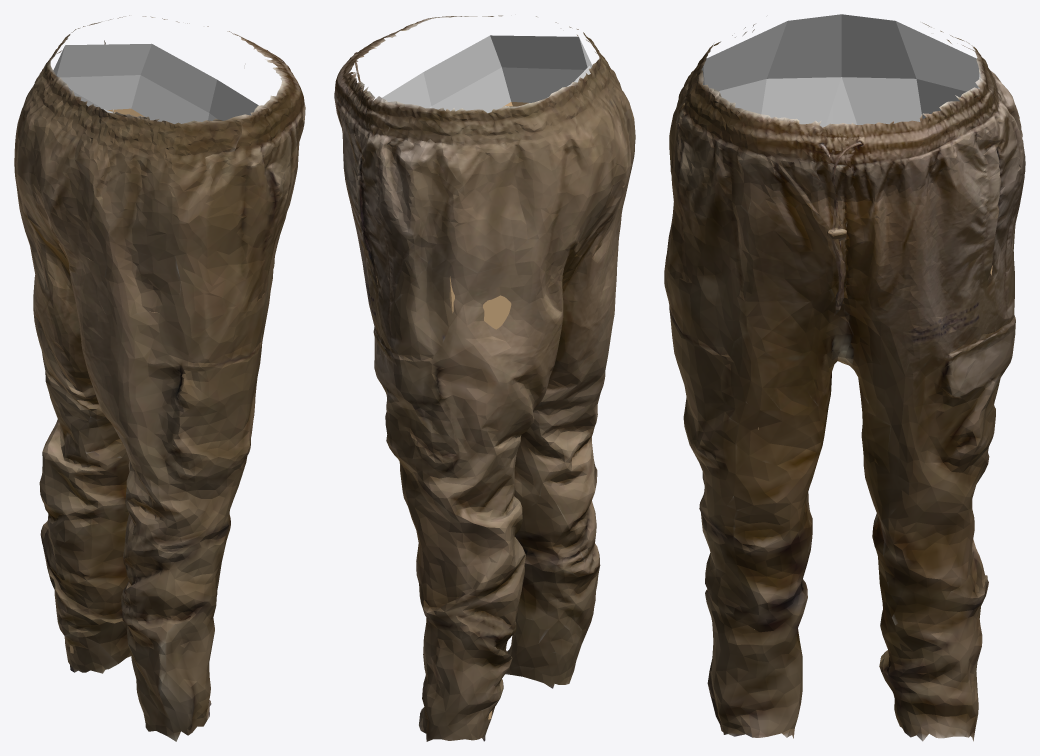
Rendered from &&KhakiJoggers.glb.
The picture shows the model from 3 angles, left to right: view 1: azimuth 30°, elevation 25°; view 2: azimuth 150°, elevation 25°; view 3: azimuth 270°, elevation 25°; orthographic projection. The views are drawn at different scales.
Parts seen in each view (by area): view 1: legs_w; view 2: legs_w; view 3: legs_w.
Part boxes in pixels (left/top/right/bottom): legs_w: left=14, top=15, right=305, bottom=741; legs_w: left=334, top=15, right=635, bottom=741; legs_w: left=664, top=14, right=1025, bottom=741.
Bounding box in the file's own units: 0.5114 × 1.2 × 0.5641.
Materials: 3 (1 with a texture image).
